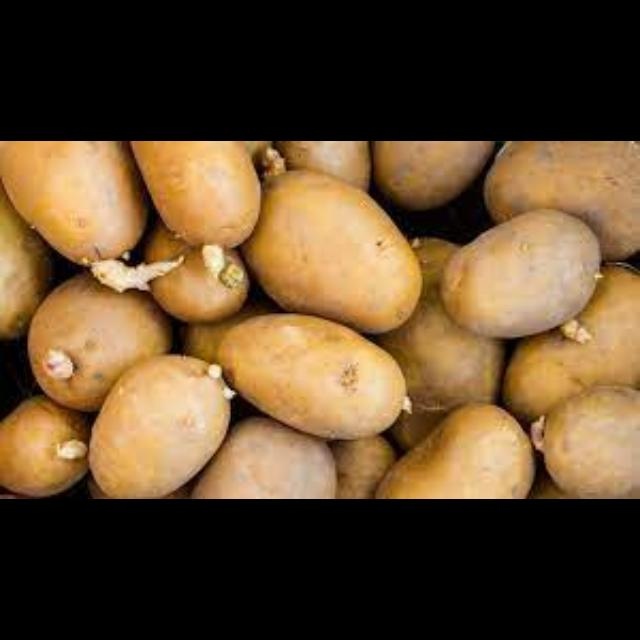Sprouted potato: (251, 150, 423, 330), (2, 145, 175, 299), (442, 207, 614, 345), (222, 316, 420, 432), (92, 357, 242, 499), (31, 274, 172, 412), (132, 142, 258, 272), (530, 383, 640, 499), (148, 228, 252, 318), (2, 396, 92, 499)
